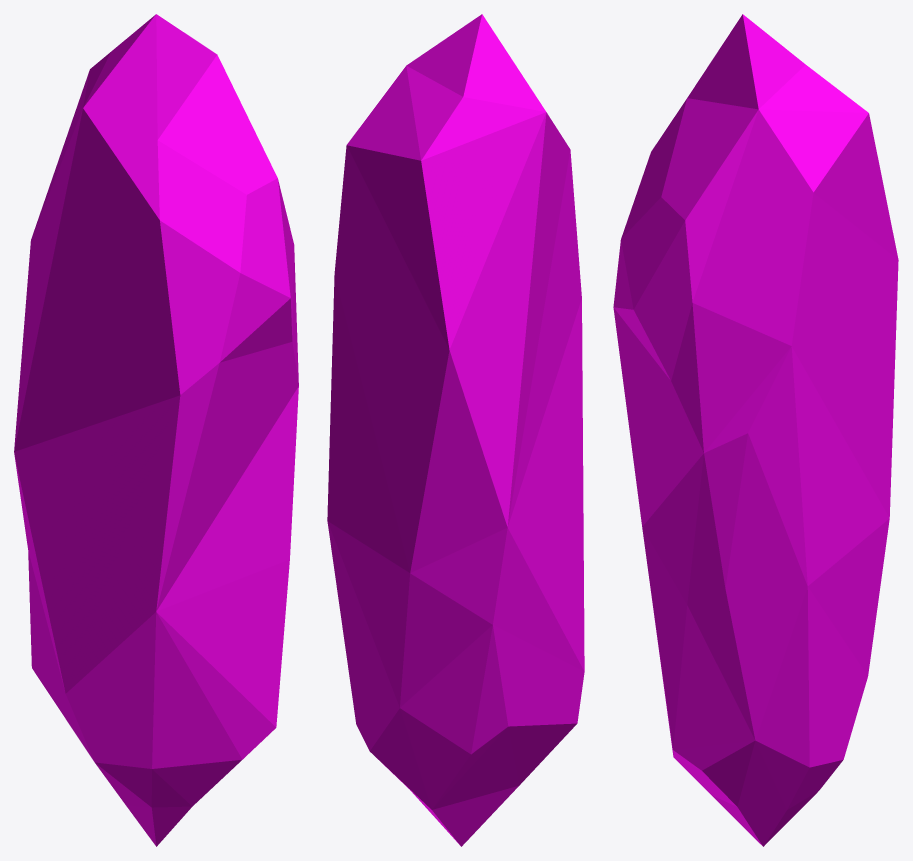
Rendered from Crystal_1.fbx.
3 renders of one model, left to right at view 1: azimuth 30°, elevation 25°; view 2: azimuth 150°, elevation 25°; view 3: azimuth 270°, elevation 25°, orthographic.
Parts seen in each view (by area): view 1: Crystal_2; view 2: Crystal_2; view 3: Crystal_2.
Part boxes in pixels (x1=…): Crystal_2: x1=14, y1=14, x2=298, y2=846; Crystal_2: x1=327, y1=14, x2=584, y2=846; Crystal_2: x1=613, y1=14, x2=898, y2=846.
Size of the model in its own units: 33.06 by 116 by 36.27.
